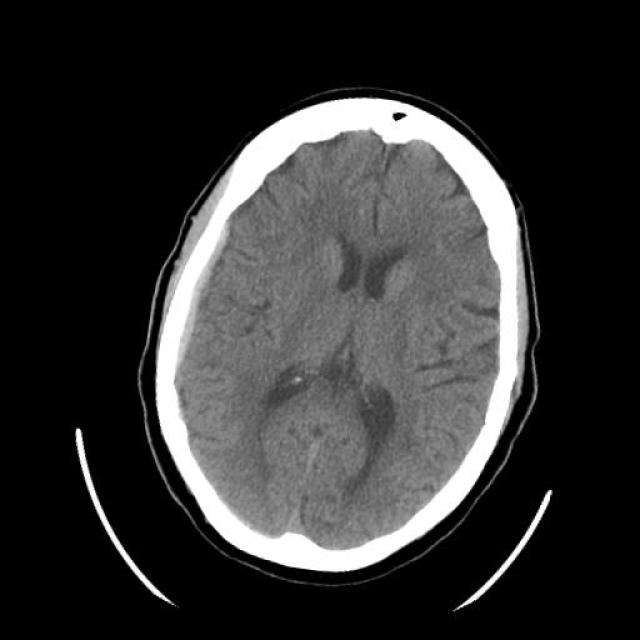Subdural: (119, 177, 250, 412)
